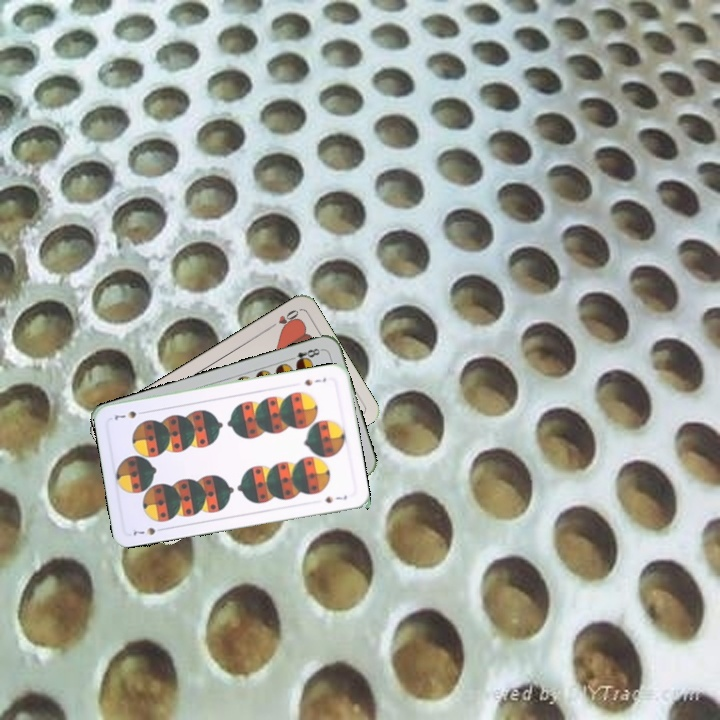E8: (285, 344, 325, 367)
HO: (265, 305, 301, 332)
S7: (129, 523, 168, 538), (301, 373, 328, 389)
